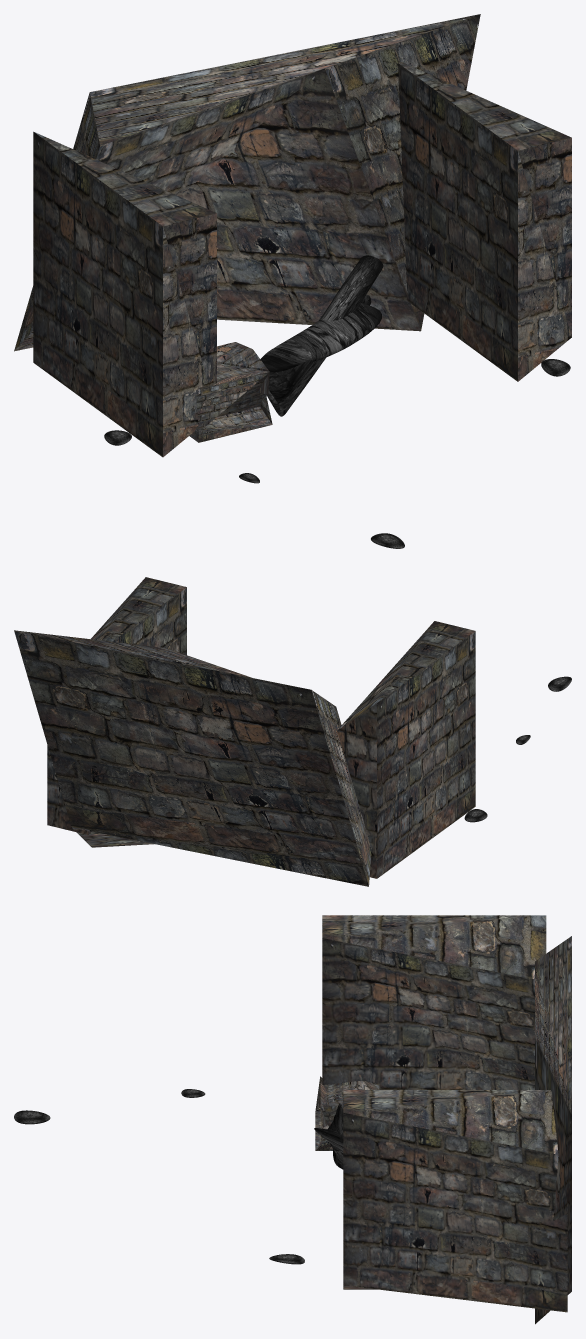
Rendered from HouseRuin.FBX.
3 views of the same model, one above another, from view 1: azimuth 30°, elevation 25°; view 2: azimuth 150°, elevation 25°; view 3: azimuth 270°, elevation 25° (orthographic). The views are drawn at different scales.
Parts seen in each view (by area): view 1: Box003, Box001, Box002, Box008, Box004; view 2: Box003, Box001, Box002; view 3: Box002, Box001, Box003, Box004, Box008.
Part boxes in pixels (box(x1,y1,x2,y2)): Box003: box(14, 14, 480, 351); Box001: box(33, 131, 216, 457); Box002: box(398, 62, 571, 381); Box008: box(260, 255, 383, 416); Box004: box(189, 342, 272, 442); Box003: box(14, 630, 371, 886); Box001: box(337, 621, 475, 878); Box002: box(47, 577, 186, 834); Box002: box(343, 1090, 567, 1312); Box001: box(322, 915, 546, 1089); Box003: box(535, 936, 571, 1324); Box004: box(315, 1076, 379, 1150); Box008: box(314, 1103, 343, 1169).
Bounding box in the file's own units: 93 × 53.51 × 105.
Materials: 2 (2 with a texture image).
